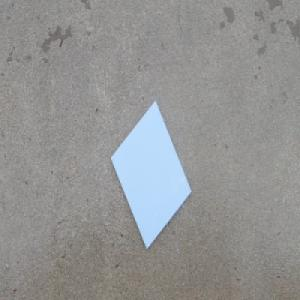PaintChip: (110, 97, 192, 250)
